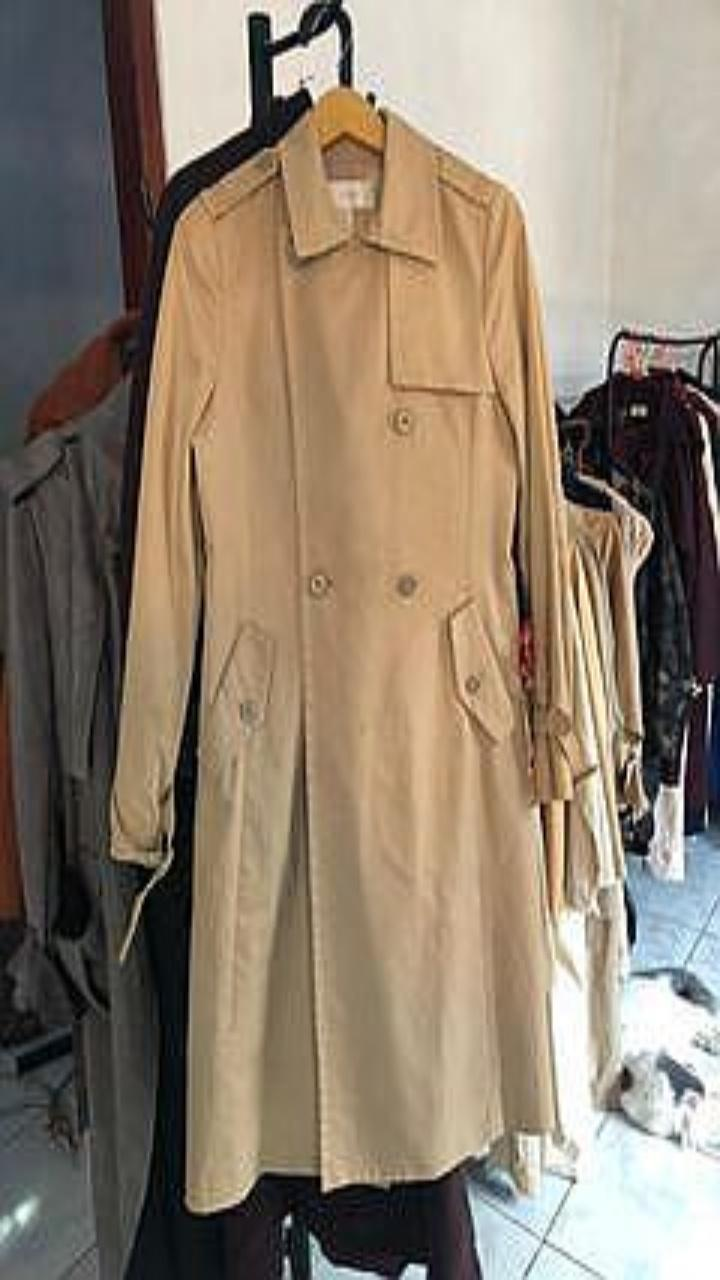Coat: (112, 113, 573, 1210), (0, 384, 157, 1279)
